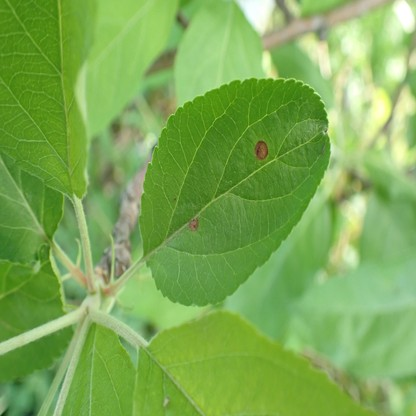frogeye_leaf_spot: (255, 139, 268, 159), (189, 219, 198, 231), (164, 397, 169, 407)
